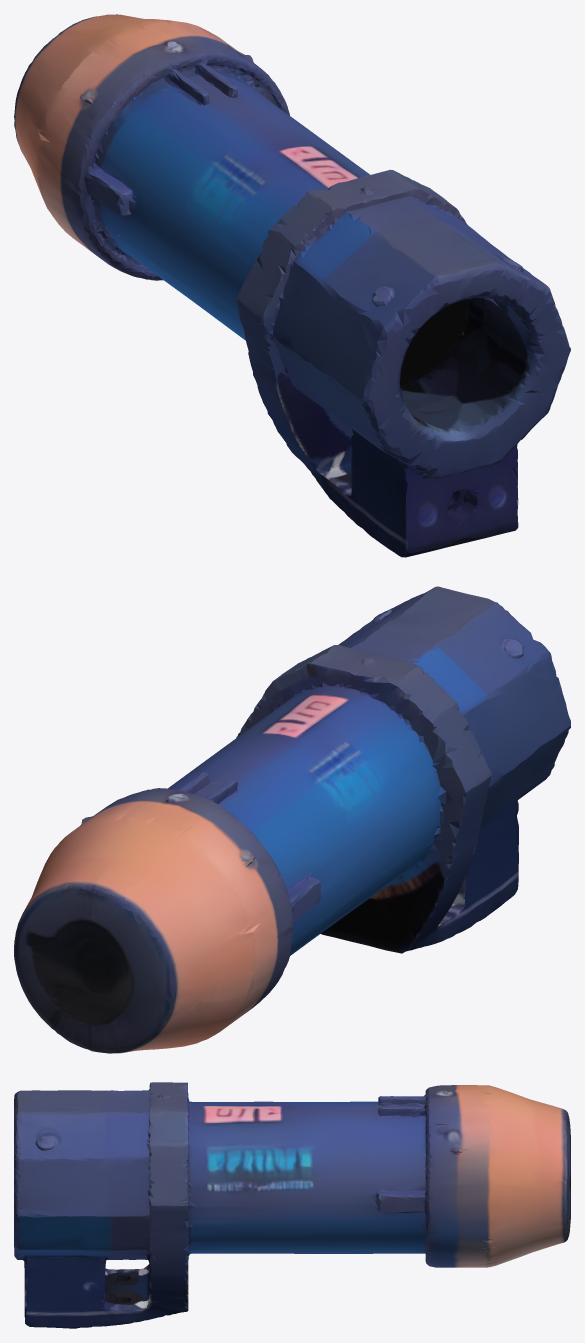
The model's file is drifttuner_rocket.glb.
3 renders of one model, top to bottom at view 1: azimuth 30°, elevation 25°; view 2: azimuth 150°, elevation 25°; view 3: azimuth 270°, elevation 25°, orthographic. The views are drawn at different scales.
Visible parts, largest first — view 1: Rocket_Drift_Tuner; view 2: Rocket_Drift_Tuner; view 3: Rocket_Drift_Tuner.
Boxes of the visible parts, x1,y1,x2,y2 form: Rocket_Drift_Tuner: (14,14,570,557); Rocket_Drift_Tuner: (14,586,570,1053); Rocket_Drift_Tuner: (14,1082,570,1328).
Bounding box in the file's own units: 0.2097 × 0.2573 × 0.6004.
Materials: 1 (1 with a texture image).
